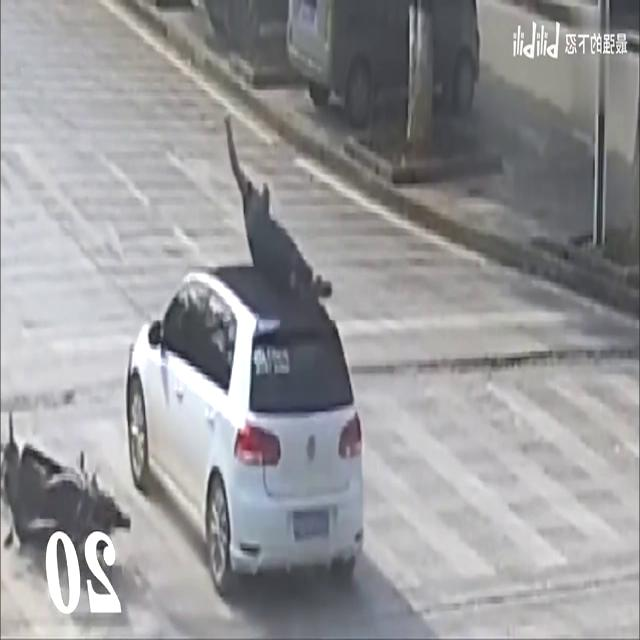accident: (0, 113, 366, 602)
